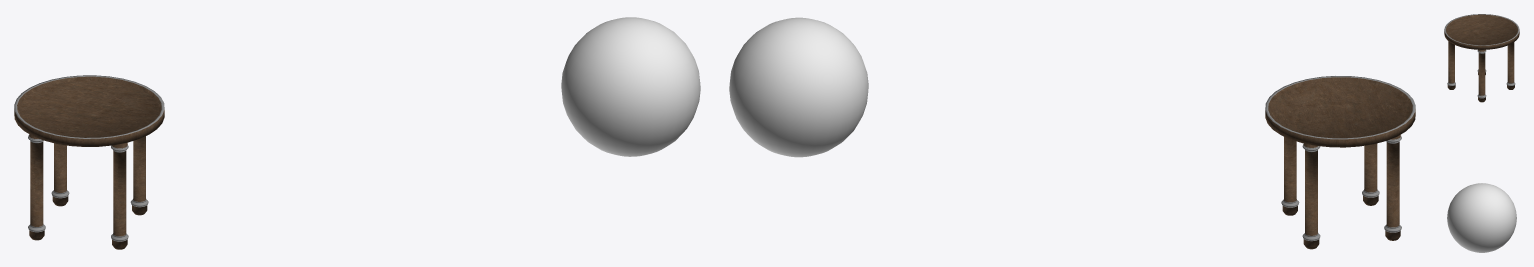
File: table_basse.glb
3 views of the same model, side by side, from view 1: azimuth 30°, elevation 25°; view 2: azimuth 150°, elevation 25°; view 3: azimuth 270°, elevation 25° (orthographic). The views are drawn at different scales.
Visible parts, largest first — view 1: Sphere, Cylinder.002; view 2: Sphere, Cylinder.002; view 3: Sphere, Cylinder.002.
Part boxes in pixels (<box>): Sphere: <box>561,17,700,156</box>; Cylinder.002: <box>14,75,164,249</box>; Sphere: <box>729,17,868,157</box>; Cylinder.002: <box>1265,76,1415,249</box>; Sphere: <box>1447,183,1516,252</box>; Cylinder.002: <box>1444,14,1519,102</box>.
Size of the model in its own units: 11.02 by 2.77 by 2.16.
Materials: 2 (1 with a texture image).
